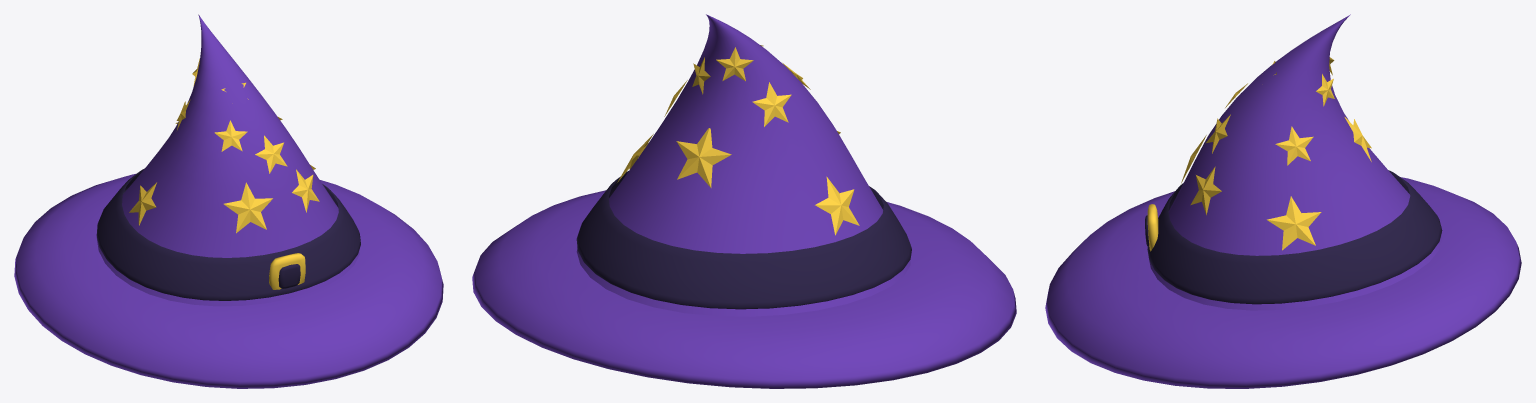
Rendered from hat_wizard.glb.
3 renders of one model, left to right at view 1: azimuth 30°, elevation 25°; view 2: azimuth 150°, elevation 25°; view 3: azimuth 270°, elevation 25°, orthographic. The views are drawn at different scales.
Parts seen in each view (by area): view 1: HatWizard; view 2: HatWizard; view 3: HatWizard.
Boxes of the visible parts, <box> form: HatWizard: <box>14,14,443,388</box>; HatWizard: <box>472,14,1016,388</box>; HatWizard: <box>1045,14,1521,388</box>.
Size of the model in its own units: 0.808 by 0.5475 by 0.8041.
